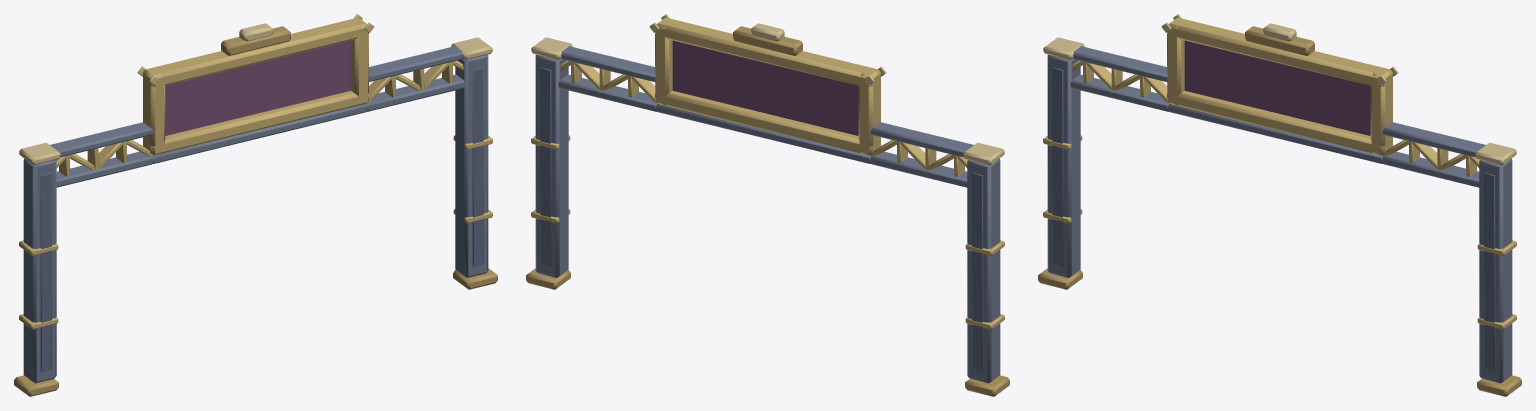
File: sign_gantry.glb
3 renders of one model, left to right at view 1: azimuth 30°, elevation 25°; view 2: azimuth 150°, elevation 25°; view 3: azimuth 330°, elevation 25°, orthographic.
Visible parts, largest first — view 1: sign_gantry; view 2: sign_gantry; view 3: sign_gantry.
Part boxes in pixels (x1,y1,x2,y2): sign_gantry: (14,14,497,396); sign_gantry: (526,14,1009,396); sign_gantry: (1038,14,1521,396).
Bounding box in the file's own units: 58.6 × 36.6 × 3.5.
